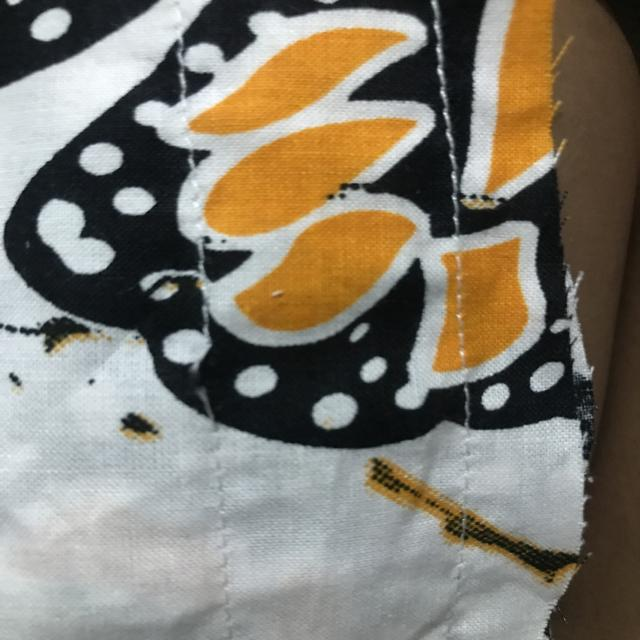broken: (169, 329, 252, 416)
